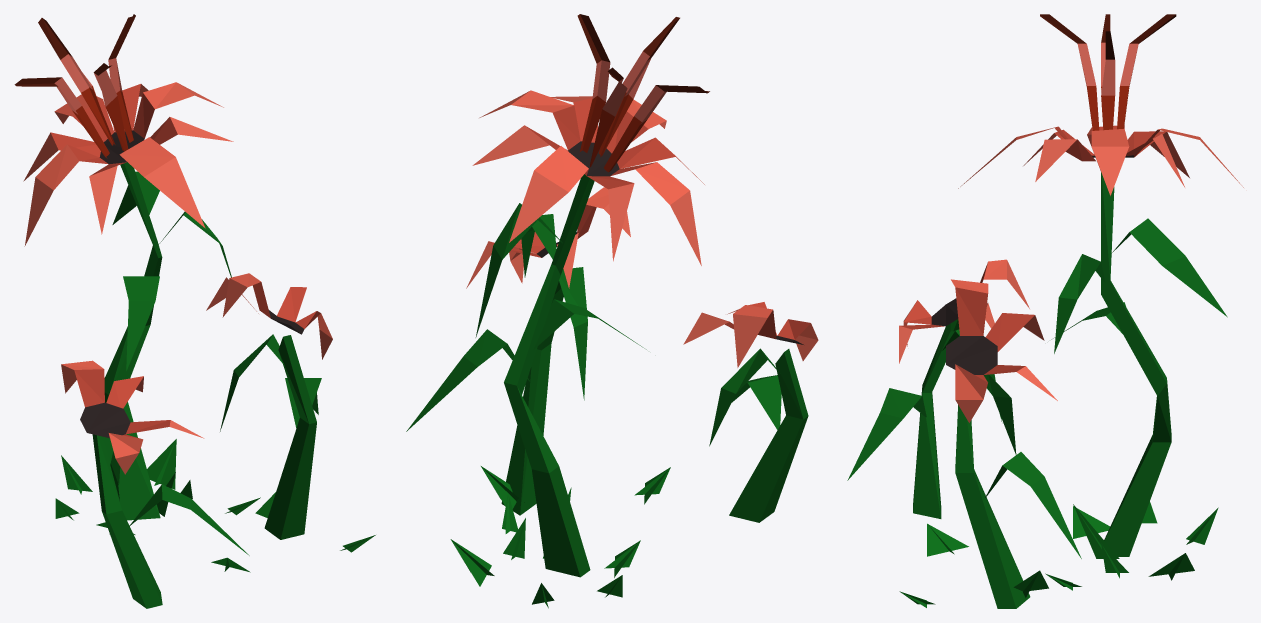
Rendered from obj_flowers_5_0.obj.
3 views of the same model, side by side, from view 1: azimuth 30°, elevation 25°; view 2: azimuth 150°, elevation 25°; view 3: azimuth 270°, elevation 25° (orthographic). The views are drawn at different scales.
Size of the model in its own units: 0.5859 by 0.9531 by 0.6641.
